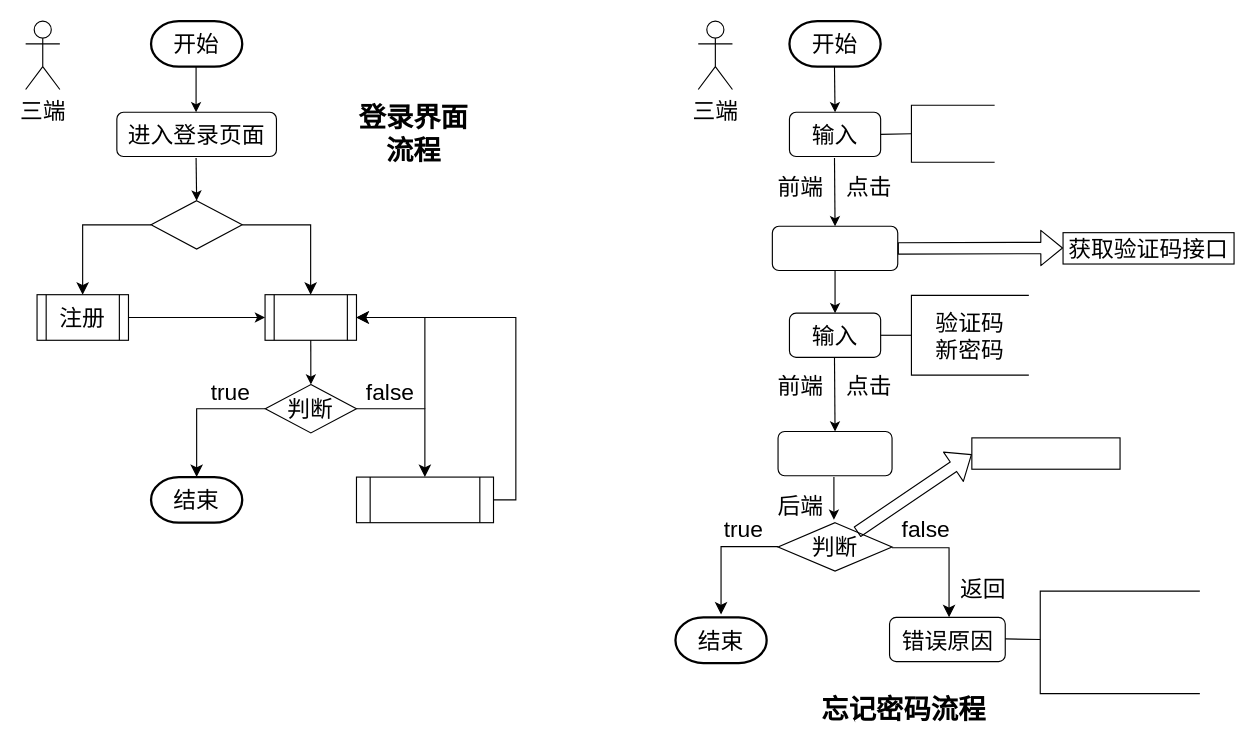
This 1254x747 diagram has some shape labels left out. Each missing label, with the centre of its shape:
修改密码: pixel 834 453
忘记密码: pixel 424 499
忘记密码接口: pixel 1045 453
登录: pixel 310 317
获取验证码: pixel 834 248
账号: pixel 952 133
账号不存在 验证码错误 新旧密码重复: pixel 1119 642
选择: pixel 196 224
